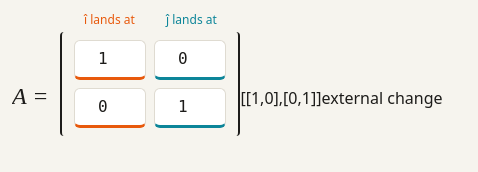
Test: MatrixInput › updates the right entry when typed into
Replace the text in the number field named "A row 1, column 2" with "-2.5" at (190,60), box [154,40,226,80]
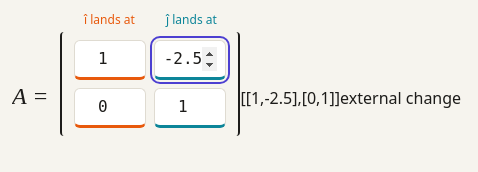
Result: the text with test id "value" reads "[ [1,-2.5],[0,1]]" at [240,87,340,109]
